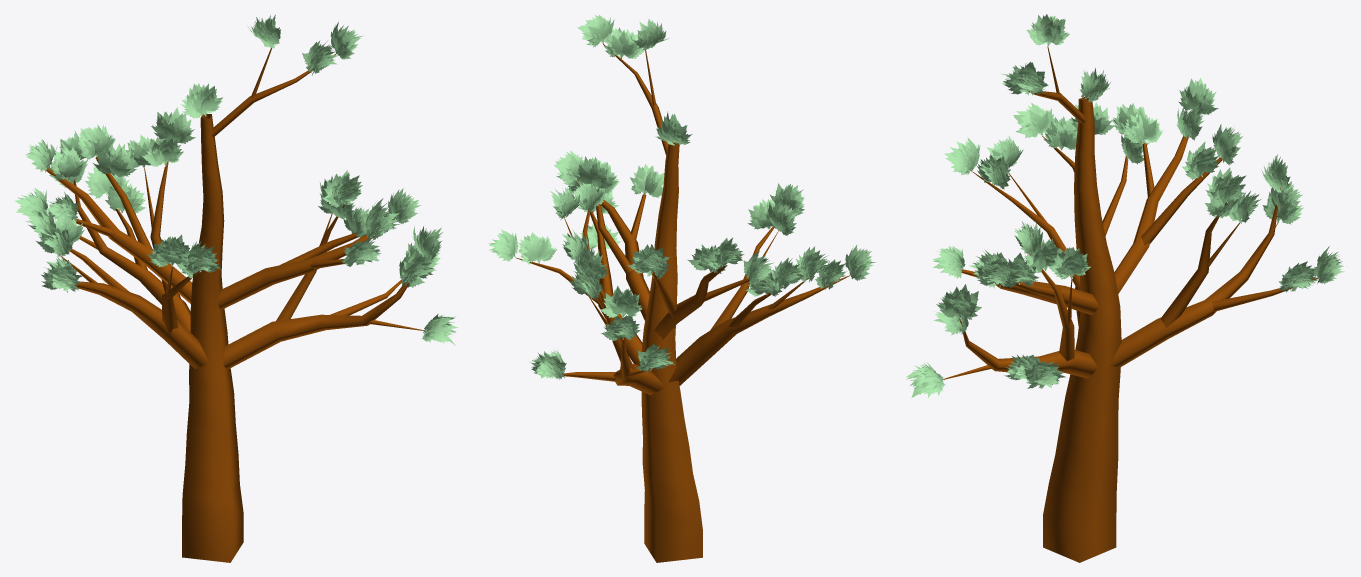
Rendered from FinalTree24.fbx.
3 renders of one model, left to right at view 1: azimuth 30°, elevation 25°; view 2: azimuth 150°, elevation 25°; view 3: azimuth 270°, elevation 25°, orthographic. The views are drawn at different scales.
Visible parts, largest first — view 1: Árbol; view 2: Árbol; view 3: Árbol.
Part boxes in pixels (bbox=[...]): Árbol: bbox=[46, 43, 425, 562]; Árbol: bbox=[515, 44, 849, 562]; Árbol: bbox=[943, 46, 1317, 562].
Bounding box in the file's own units: 469 × 607 × 438.
